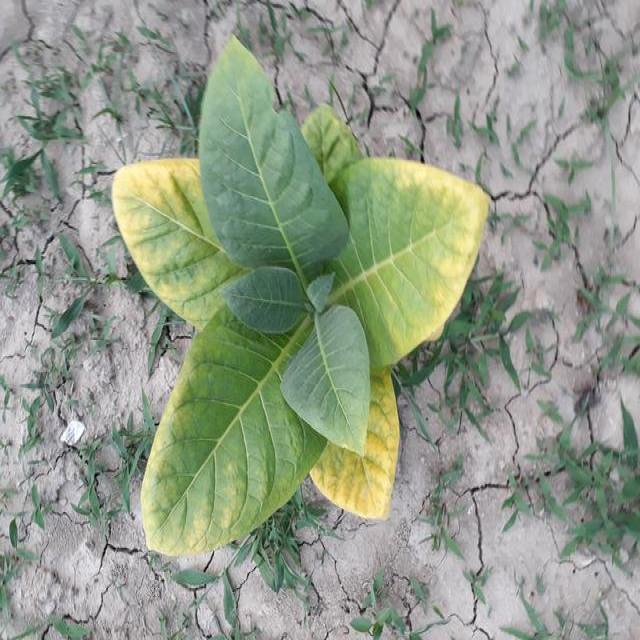crop: (110, 18, 497, 575)
